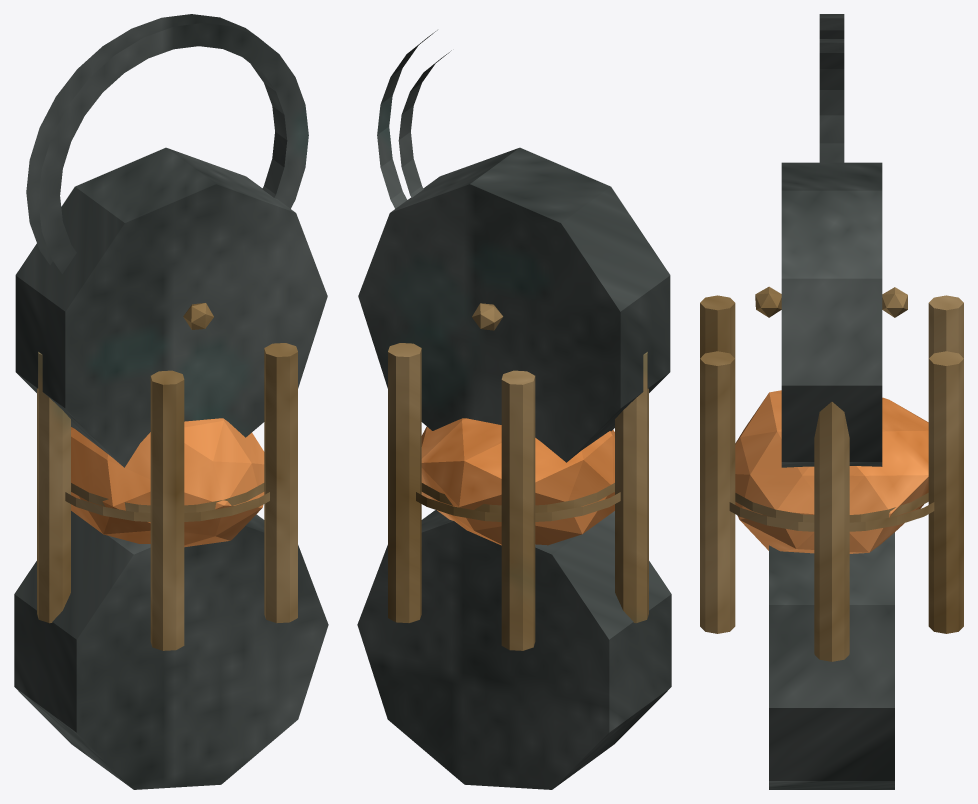
Rendered from 0920_lantern_20.glb.
3 views of the same model, side by side, from view 1: azimuth 30°, elevation 25°; view 2: azimuth 150°, elevation 25°; view 3: azimuth 270°, elevation 25° (orthographic).
Visible parts, largest first — view 1: iron, brass, amber; view 2: iron, brass, amber; view 3: iron, brass, amber.
Boxes of the visible parts, x1,y1,x2,y2 form: iron: [14, 14, 328, 789]; brass: [37, 303, 297, 650]; amber: [71, 418, 264, 547]; iron: [357, 30, 671, 789]; brass: [388, 303, 648, 650]; amber: [421, 418, 614, 545]; iron: [769, 14, 894, 789]; brass: [700, 286, 963, 661]; amber: [735, 390, 928, 553].
Bounding box in the file's own units: 0.5 × 1.32 × 0.4197.
3 materials, 3 textured.
